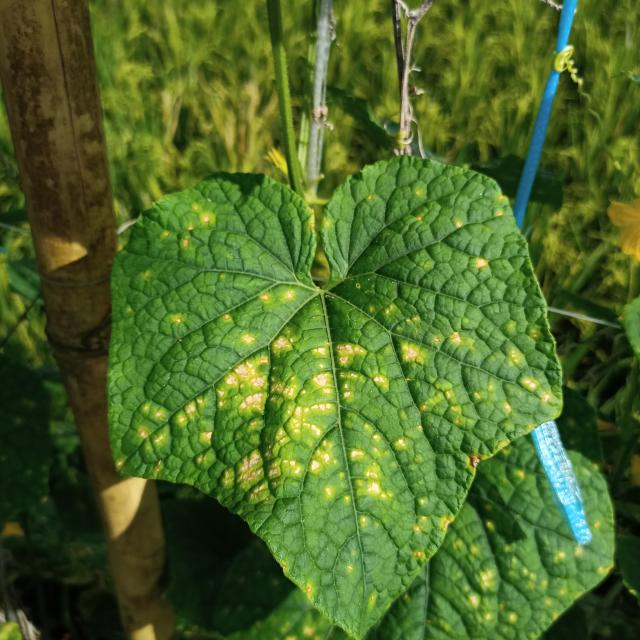disease_cucumber: (115, 182, 557, 589)
